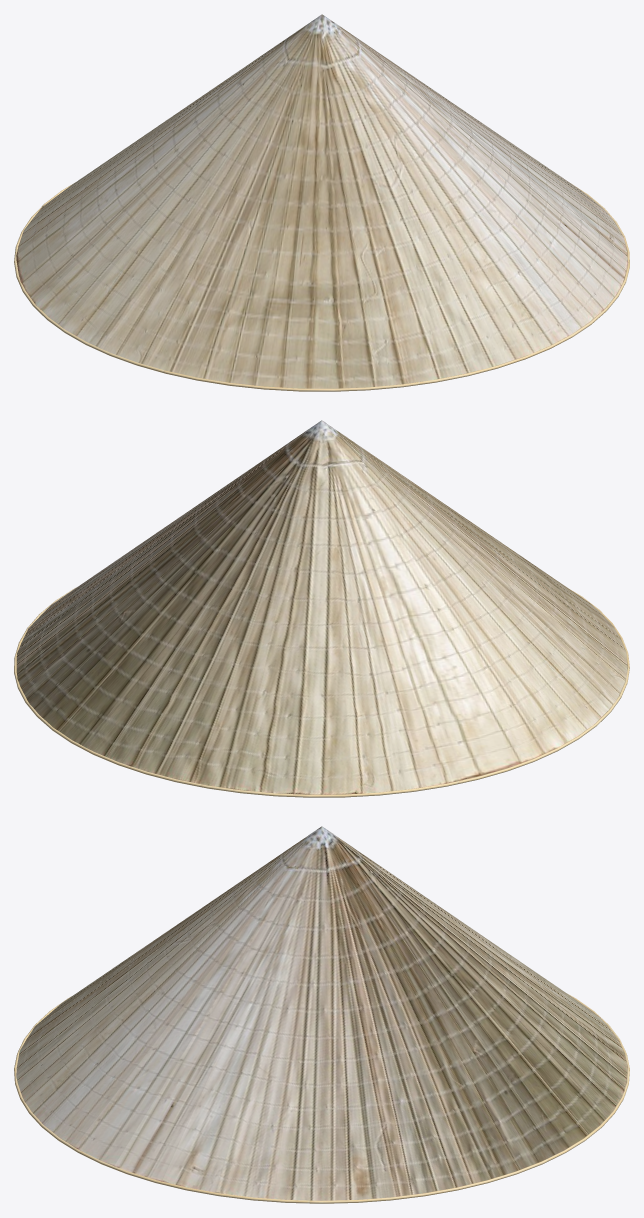
File: chuong.glb
3 renders of one model, top to bottom at view 1: azimuth 30°, elevation 25°; view 2: azimuth 150°, elevation 25°; view 3: azimuth 270°, elevation 25°, orthographic.
Parts seen in each view (by area): view 1: Cone, Torus.003; view 2: Cone, Torus.003; view 3: Cone, Torus.003.
Boxes of the visible parts, <box> form: Cone: <box>16,14,628,388</box>; Torus.003: <box>14,183,629,391</box>; Cone: <box>16,420,627,794</box>; Torus.003: <box>14,587,629,797</box>; Cone: <box>16,826,627,1200</box>; Torus.003: <box>14,994,629,1203</box>.
Bounding box in the file's own units: 3.84 × 1.7 × 3.84.
3 materials, 3 textured.
